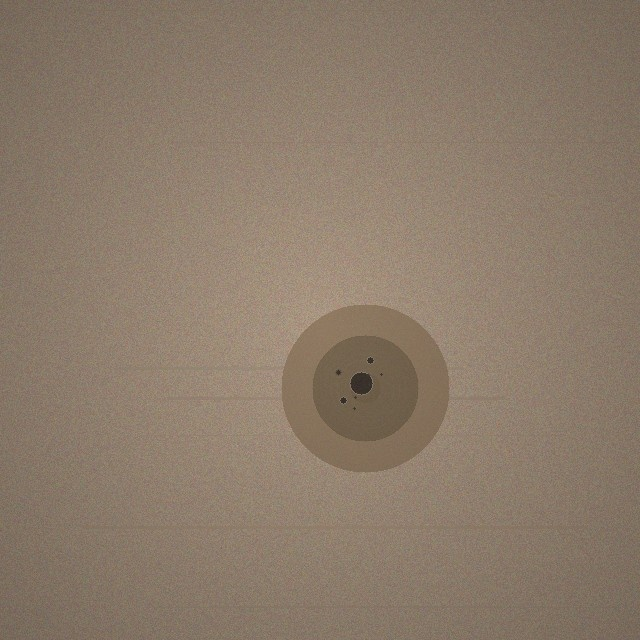shrinkage: (281, 304, 449, 472)
